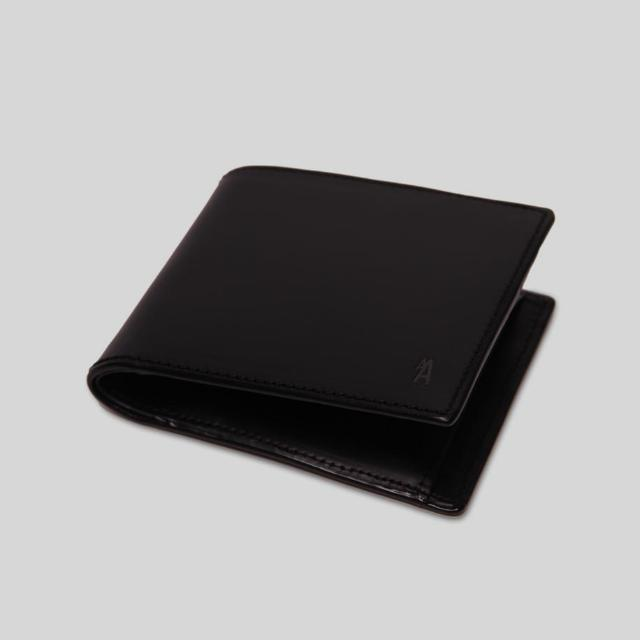wallet: (82, 156, 562, 536)
